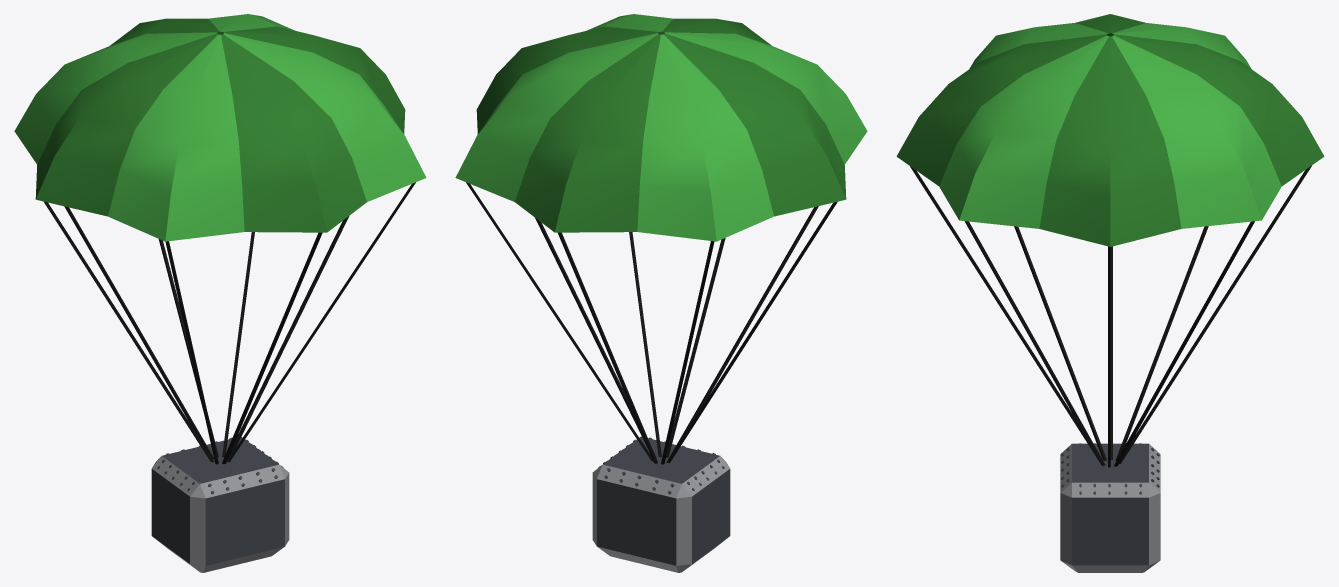
Rendered from iron_airdrop.fbx.
The picture shows the model from 3 angles, left to right: view 1: azimuth 30°, elevation 25°; view 2: azimuth 150°, elevation 25°; view 3: azimuth 270°, elevation 25°; orthographic projection.
Parts seen in each view (by area): view 1: Iron_airdrop; view 2: Iron_airdrop; view 3: Iron_airdrop.
Part boxes in pixels (box(x1,y1,x2,y2)): Iron_airdrop: box(14, 14, 426, 572); Iron_airdrop: box(455, 14, 867, 572); Iron_airdrop: box(896, 14, 1324, 572).
Bounding box in the file's own units: 15.71 × 21.08 × 15.71.
